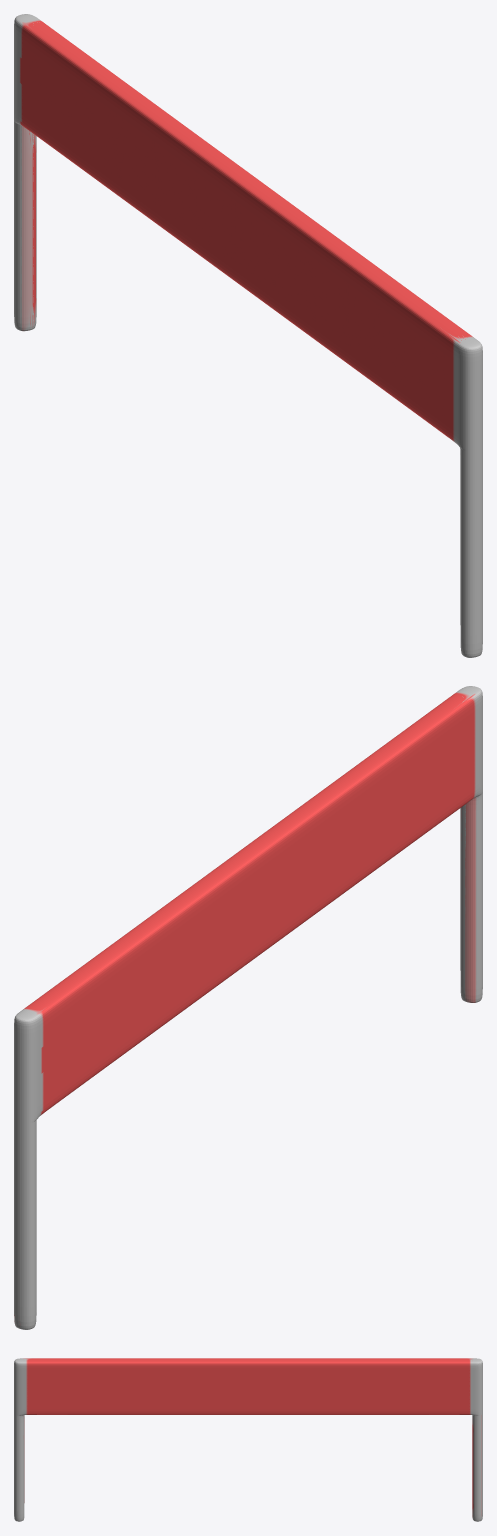
The model's file is finishline.gltf.
3 renders of one model, top to bottom at view 1: azimuth 30°, elevation 25°; view 2: azimuth 150°, elevation 25°; view 3: azimuth 270°, elevation 25°, orthographic. The views are drawn at different scales.
Parts seen in each view (by area): view 1: Cube.001; view 2: Cube.001; view 3: Cube.001.
Boxes of the visible parts, <box> form: Cube.001: <box>14,14,482,657</box>; Cube.001: <box>14,686,482,1329</box>; Cube.001: <box>14,1358,482,1521</box>.
Size of the model in its own units: 0.108 by 1.5 by 3.99.
1 material, 1 textured.
